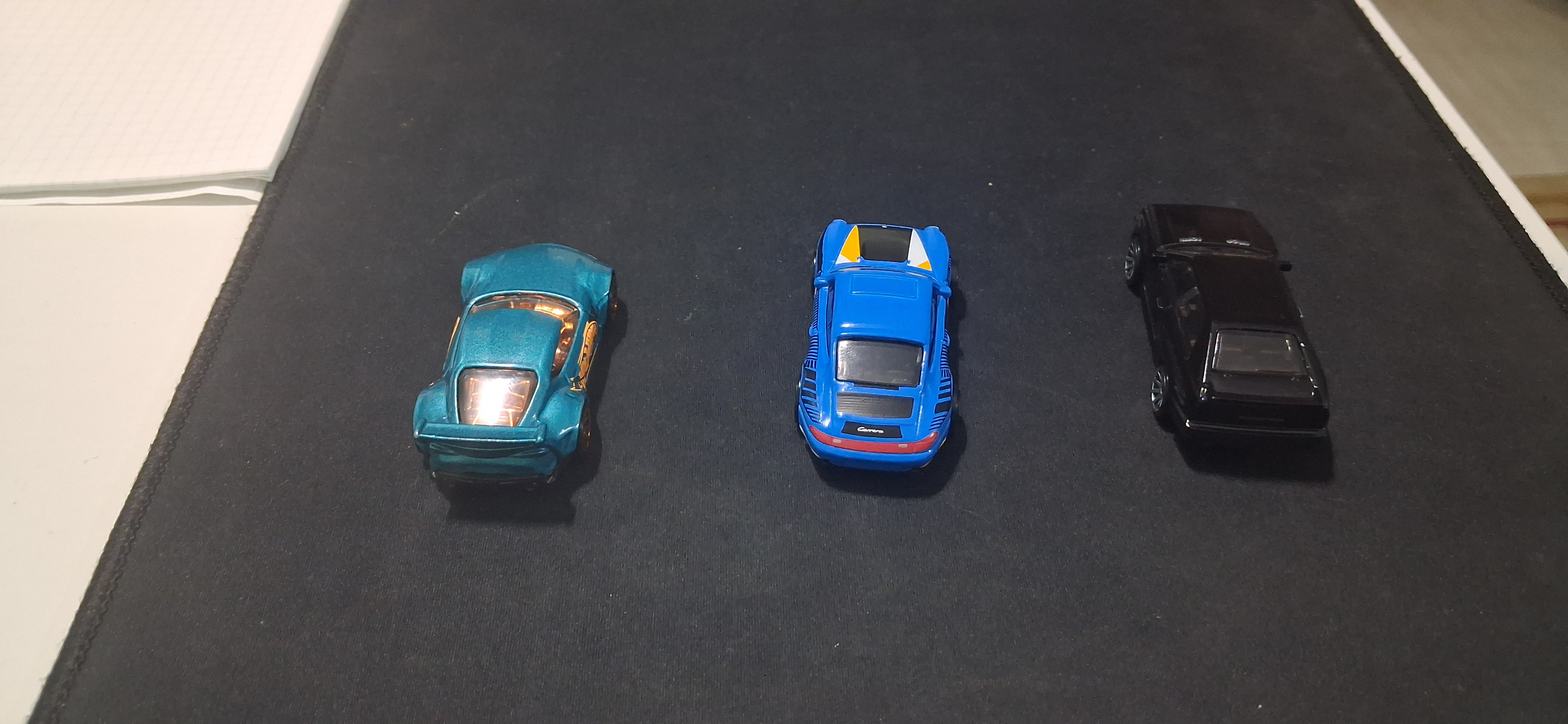Audi_Quattro: (1079, 185, 1358, 504)
Porsche_Carrera: (758, 187, 1014, 533)
Toyota_GR_Supra: (400, 218, 632, 534)
